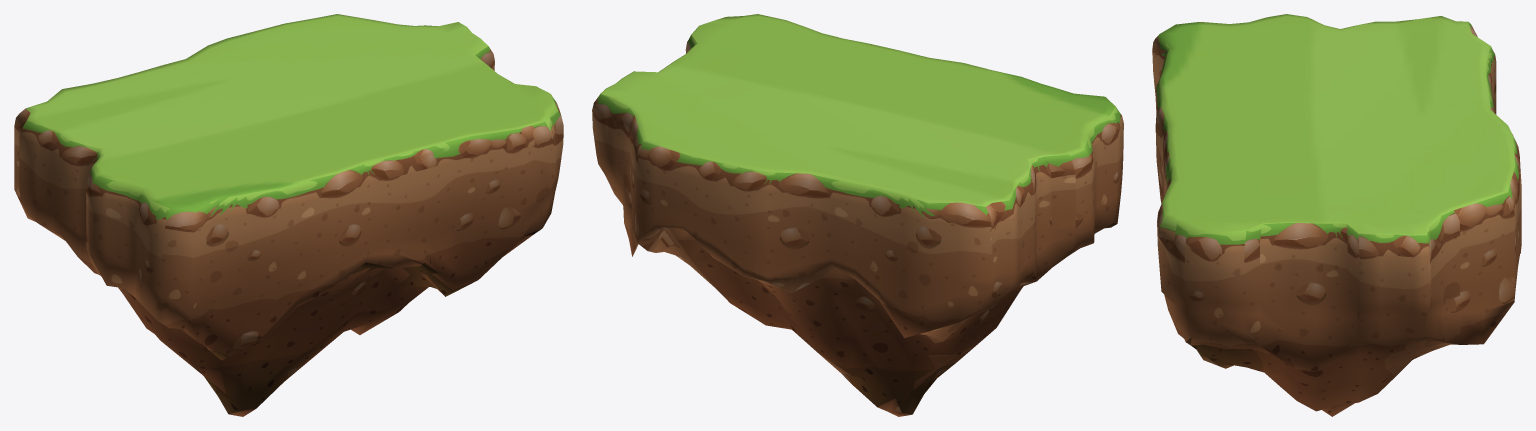
Rendered from BosqueBananilIsle.fbx.
The picture shows the model from 3 angles, left to right: view 1: azimuth 30°, elevation 25°; view 2: azimuth 150°, elevation 25°; view 3: azimuth 270°, elevation 25°; orthographic projection. The views are drawn at different scales.
Parts seen in each view (by area): view 1: Cube; view 2: Cube; view 3: Cube.
Part boxes in pixels (box(x1,y1,x2,y2)): Cube: box(14, 14, 563, 416); Cube: box(592, 14, 1123, 416); Cube: box(1152, 14, 1521, 416).
Bounding box in the file's own units: 1288 × 831 × 879.
1 material, 1 textured.
